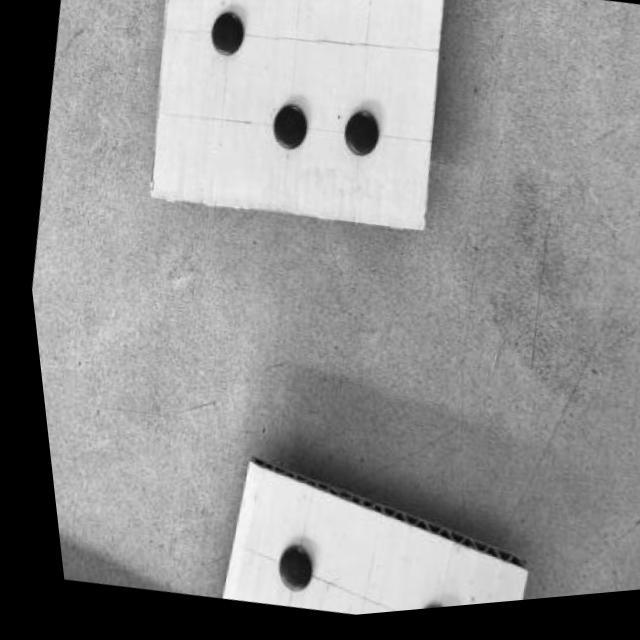braiile: (149, 0, 438, 230)
